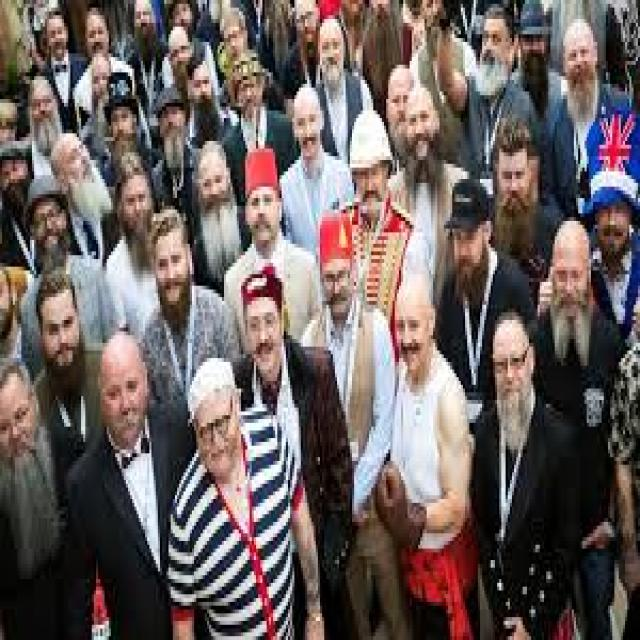no_mask: (0, 372, 44, 493), (98, 352, 152, 446), (38, 281, 85, 385), (191, 392, 244, 473), (152, 226, 194, 326), (491, 325, 531, 412), (498, 140, 536, 220), (594, 196, 632, 274), (554, 252, 589, 325), (197, 156, 234, 225), (395, 303, 431, 372), (248, 305, 281, 375), (402, 103, 438, 167), (453, 220, 485, 290), (565, 34, 599, 94), (350, 167, 391, 216), (246, 188, 278, 248), (291, 102, 324, 160), (477, 15, 508, 76), (321, 265, 352, 321), (122, 178, 152, 230), (319, 29, 346, 82), (238, 70, 264, 121)
